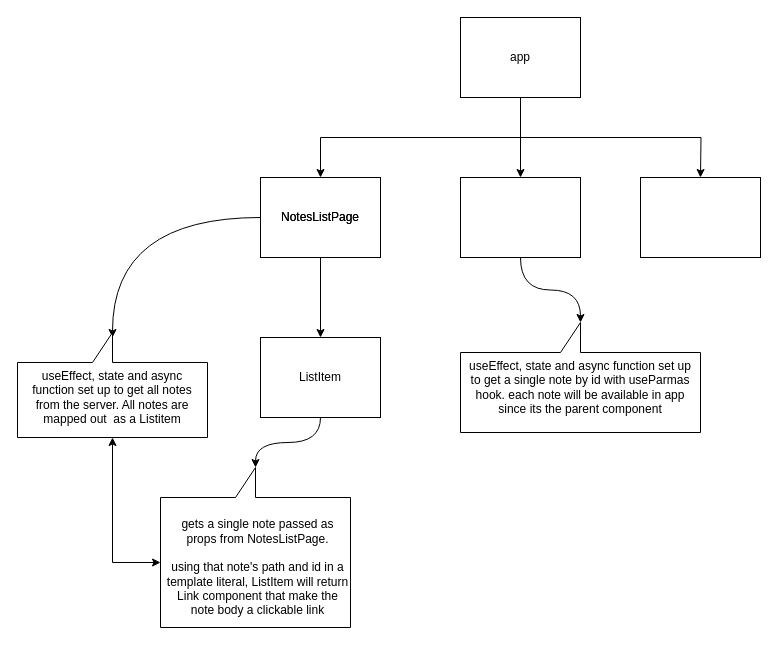
Some shapes in this 778 by 645 pixel diagram are drawn without their labels. The shapes that lost their labels are listed below. From the top down, each one's box as (x1, y1, x2, y2) in pixels, then its label:
(460, 176, 580, 258): NotesPage
(640, 176, 760, 258): ErrorPage
